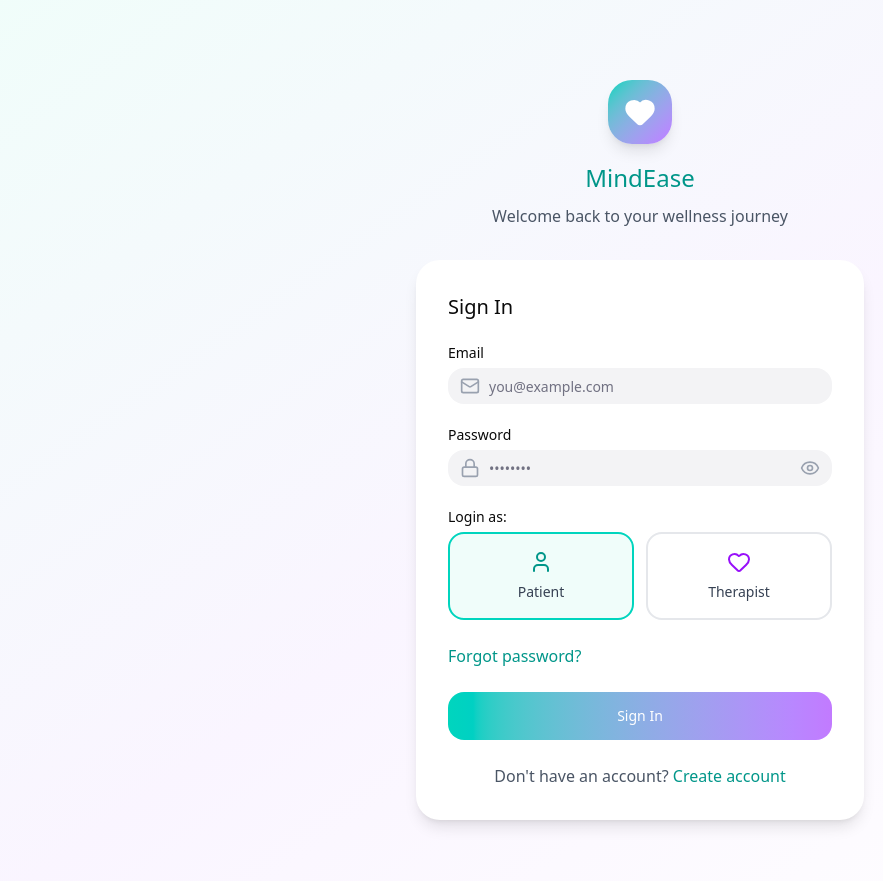
Login › shows error when login fails
The width and height of the screenshot is (883, 881).
Type "user@example.com" into the field labelled "Email" at (640, 386), box x1=448 y1=368 x2=832 y2=404
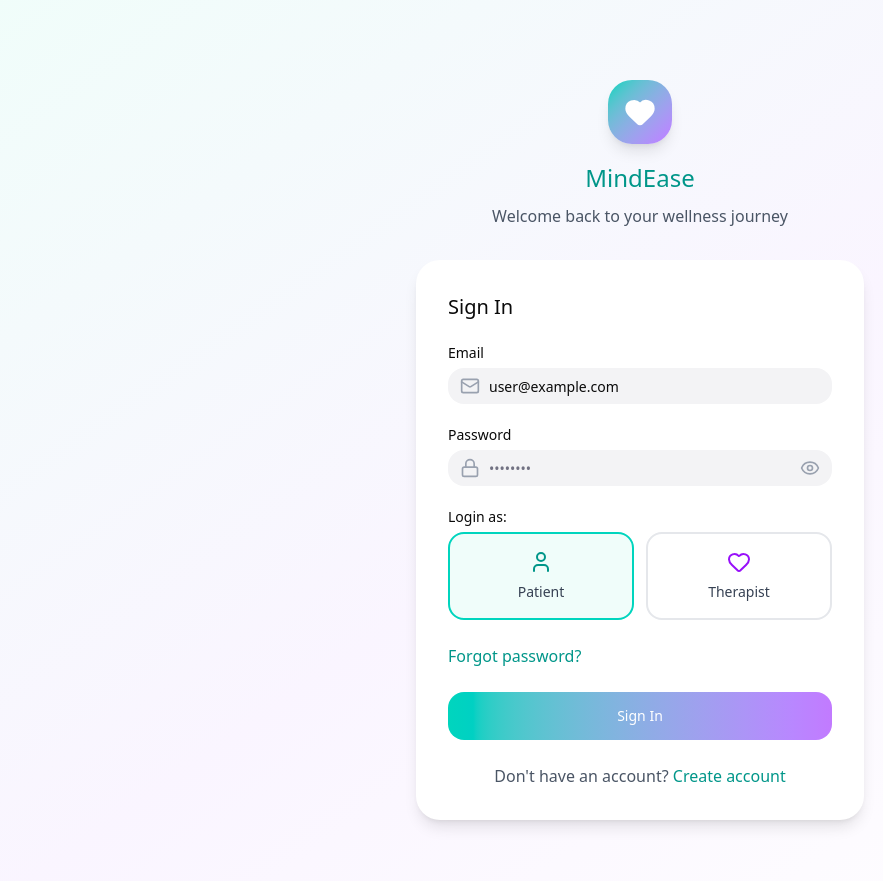
Type "wrong" into the password field with placeholder "••••••••" at (640, 468), box x1=448 y1=450 x2=832 y2=486
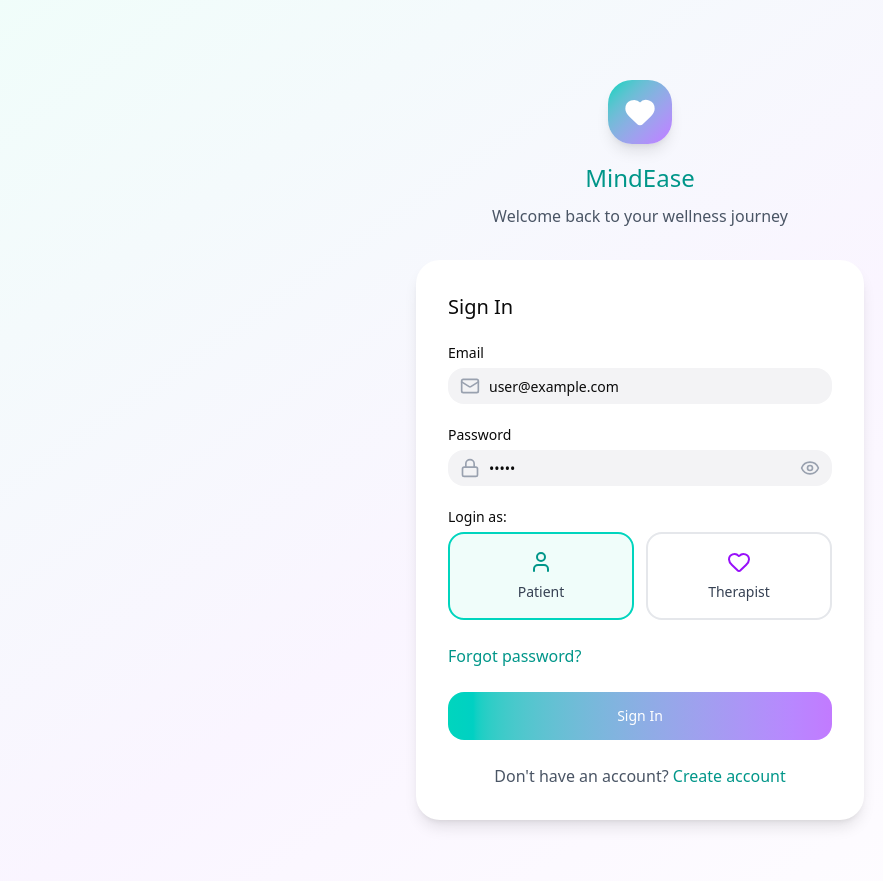
Click the button "Sign In" at (640, 716), box x1=448 y1=692 x2=832 y2=740
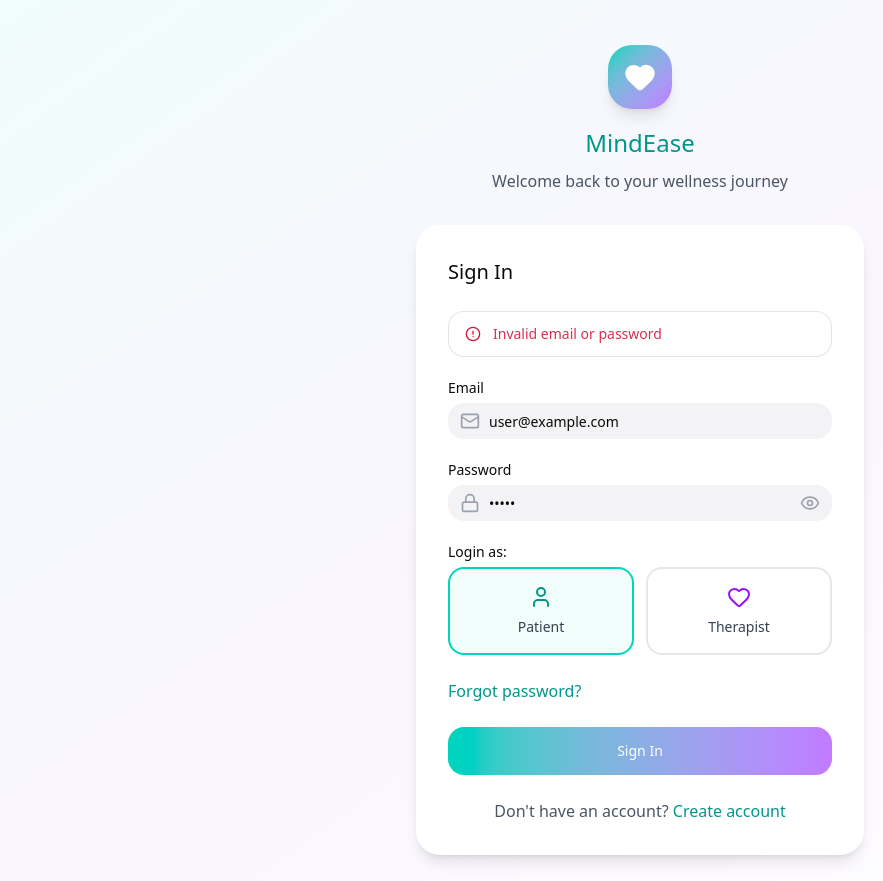
Expected: the text "Invalid email or password" is shown, x1=493 y1=324 x2=662 y2=343
